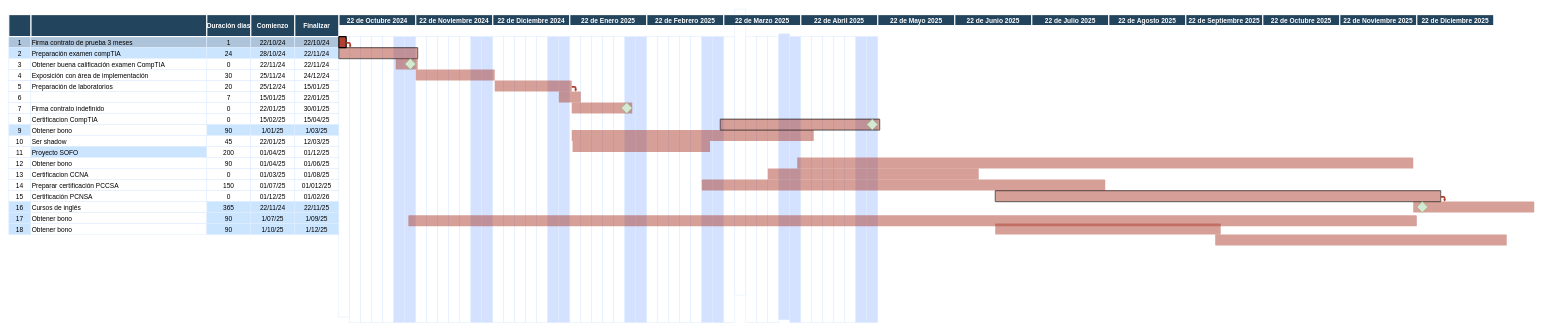
Image size: 1543x332. Some labels were removed from this diagram. Here are the shapes that lost their labels. From the top down, the centre of each, then its label:
point 118,25: TAREA
point 118,97: Evaluacion de laboratorio
